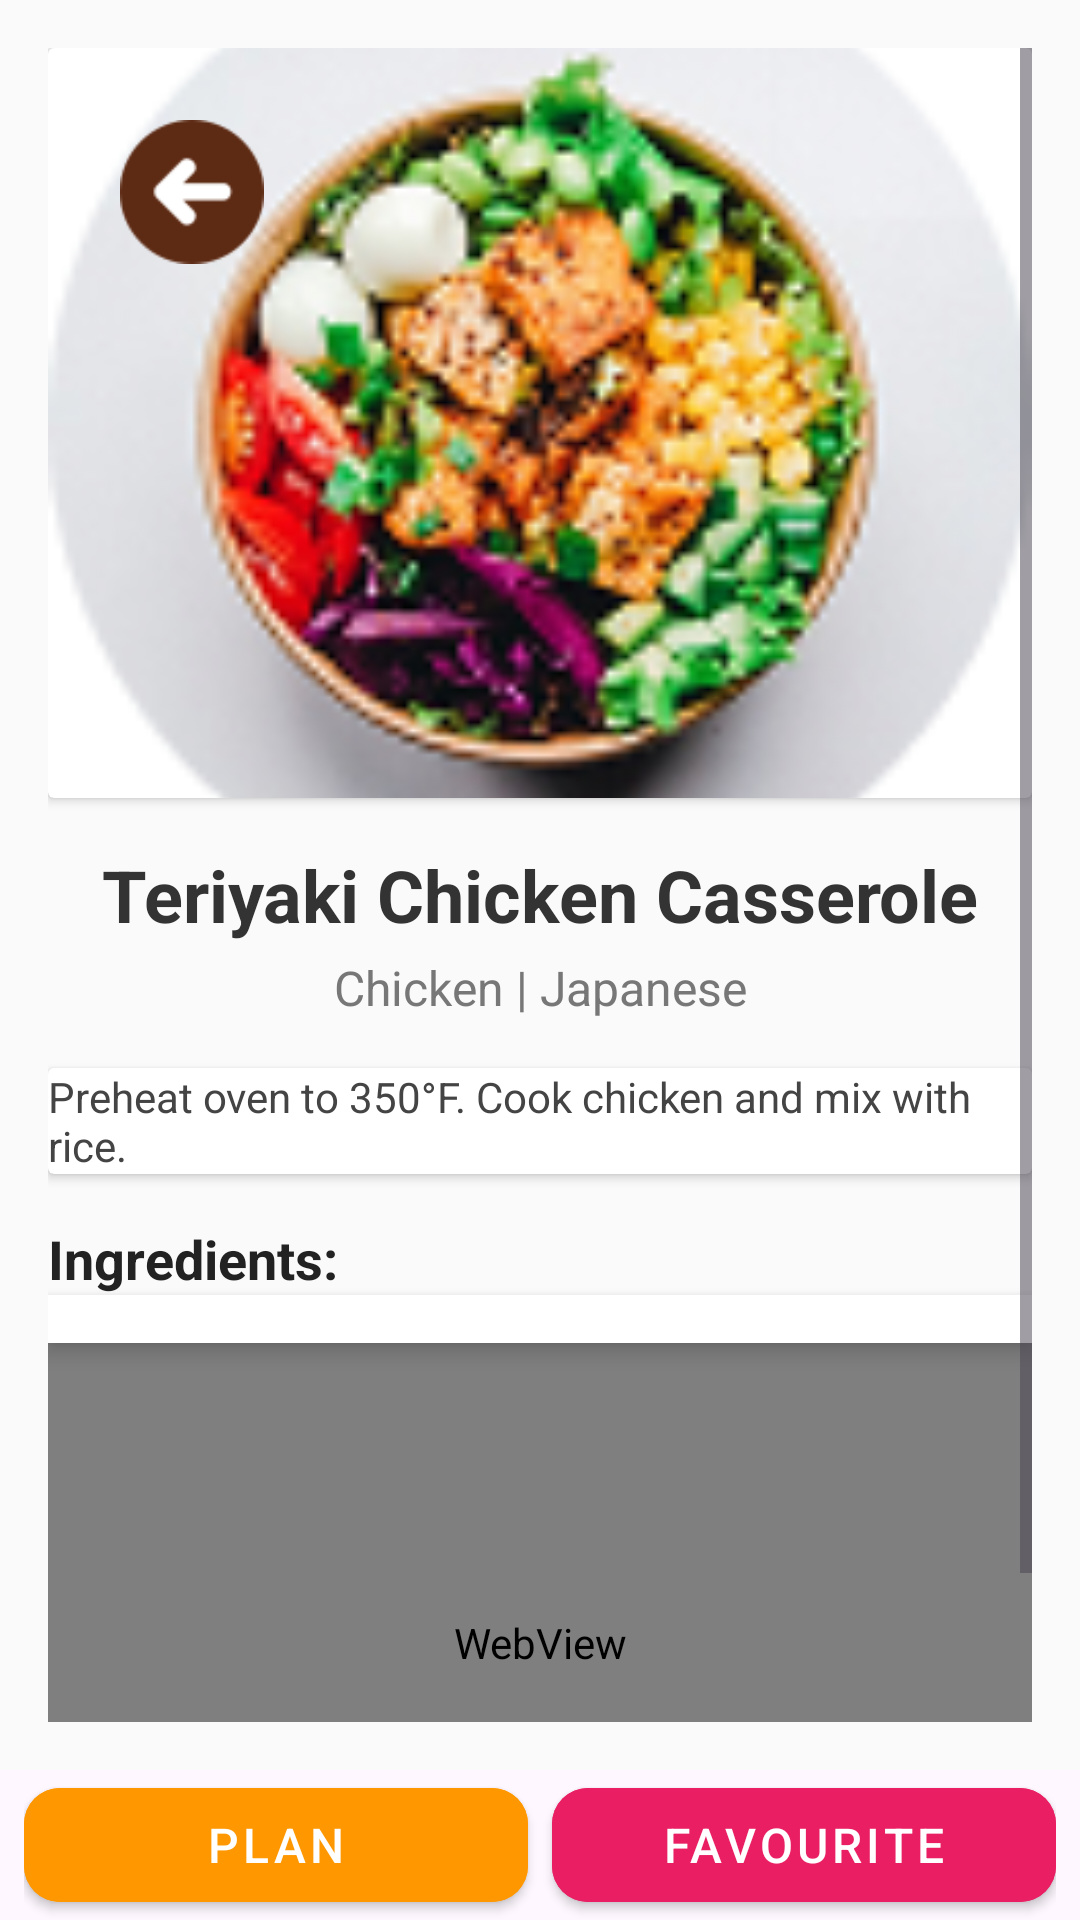

Icon click points for this 1080 x 1920 phone screenshot, format point (x, y):
Go back: point (192, 192)
